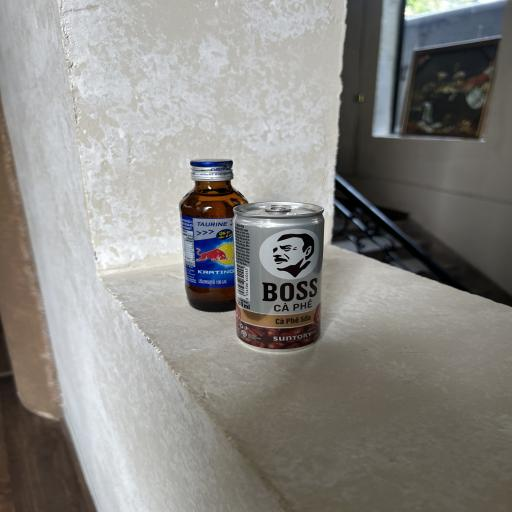bo_huc: (175, 158, 255, 314)
boss_coffee: (226, 196, 324, 354)
